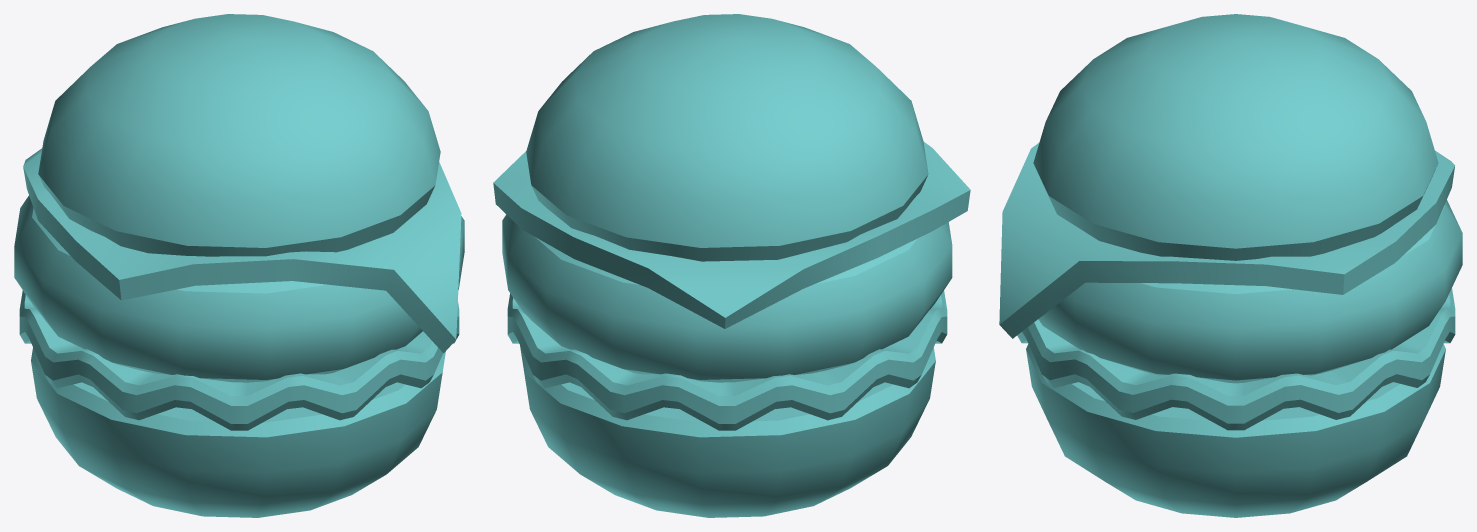
The model's file is pizza_burger.glb.
The picture shows the model from 3 angles, left to right: view 1: azimuth 30°, elevation 25°; view 2: azimuth 150°, elevation 25°; view 3: azimuth 270°, elevation 25°; orthographic projection.
Visible parts, largest first — view 1: burger; view 2: burger; view 3: burger.
Boxes of the visible parts, x1,y1,x2,y2 form: burger: [14, 14, 464, 517]; burger: [493, 14, 970, 517]; burger: [999, 14, 1462, 517].
Bounding box in the file's own units: 0.932 × 0.9635 × 0.9525.
